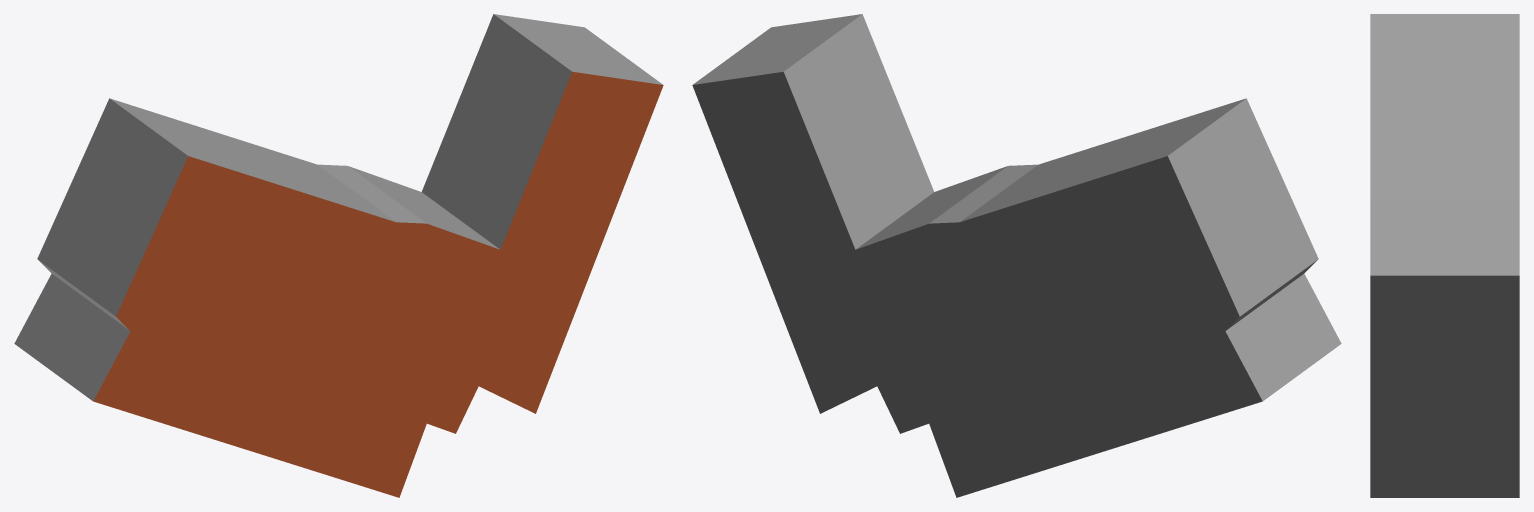
The model's file is construction_6059_assumed_A_Casa_h6m.obj.
The picture shows the model from 3 angles, left to right: view 1: azimuth 30°, elevation 25°; view 2: azimuth 150°, elevation 25°; view 3: azimuth 270°, elevation 25°; orthographic projection. The views are drawn at different scales.
Visible parts, largest first — view 1: construction_6059_assumed_A_Casa; view 2: construction_6059_assumed_A_Casa; view 3: construction_6059_assumed_A_Casa.
Part boxes in pixels (x1,y1,x2,y2): construction_6059_assumed_A_Casa: [14, 14, 663, 497]; construction_6059_assumed_A_Casa: [692, 14, 1341, 497]; construction_6059_assumed_A_Casa: [1370, 14, 1519, 497].
Bounding box in the file's own units: 25.05 × 16.51 × 6.
